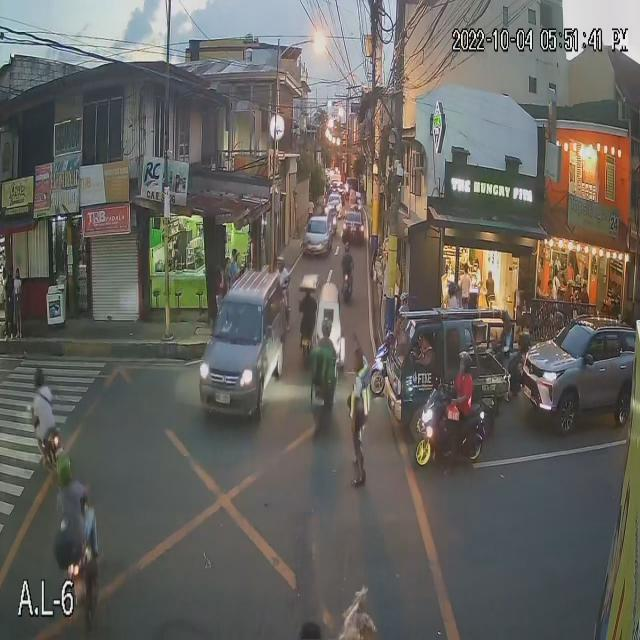helmet: (54, 455, 73, 483), (456, 349, 473, 374), (319, 318, 333, 340), (32, 368, 47, 388), (275, 256, 287, 271), (343, 242, 352, 253)
motorcycle: (414, 382, 488, 474), (59, 522, 102, 609), (39, 423, 70, 480), (310, 377, 336, 427), (340, 277, 353, 307)
rider: (440, 373, 475, 478), (54, 482, 95, 571), (306, 339, 337, 398), (29, 387, 56, 445), (340, 254, 355, 290)
